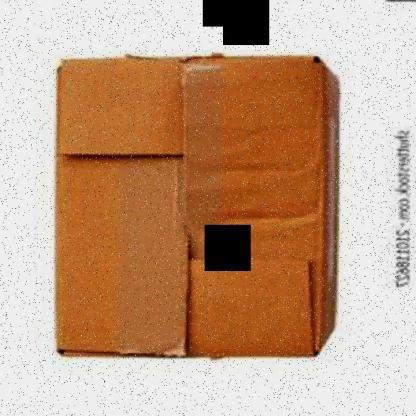-: (49, 50, 343, 363)
